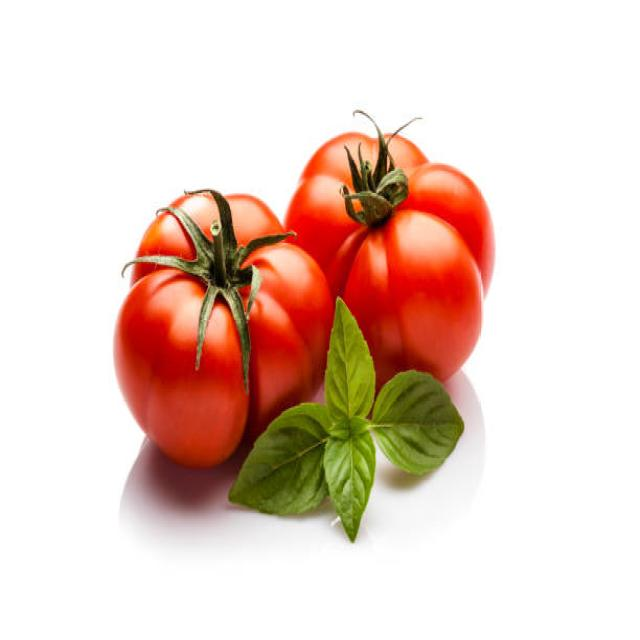Tomato: (109, 182, 338, 474), (282, 129, 498, 406)
